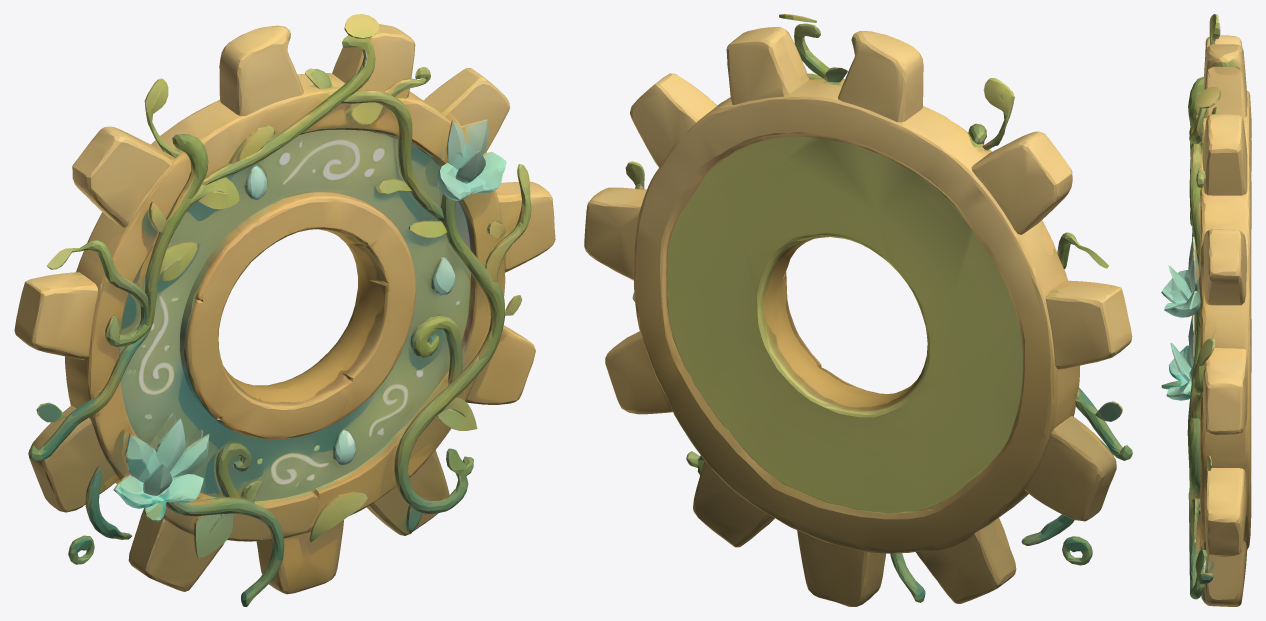
Rendered from Cog_Forest.fbx.
The picture shows the model from 3 angles, left to right: view 1: azimuth 30°, elevation 25°; view 2: azimuth 150°, elevation 25°; view 3: azimuth 270°, elevation 25°; orthographic projection. The views are drawn at different scales.
Visible parts, largest first — view 1: model; view 2: model; view 3: model.
Part boxes in pixels (x1=…): model: x1=14, y1=14, x2=555, y2=606; model: x1=584, y1=14, x2=1132, y2=606; model: x1=1161, y1=14, x2=1251, y2=606.
Size of the model in its own units: 176 by 180 by 28.06.
1 material, 1 textured.
